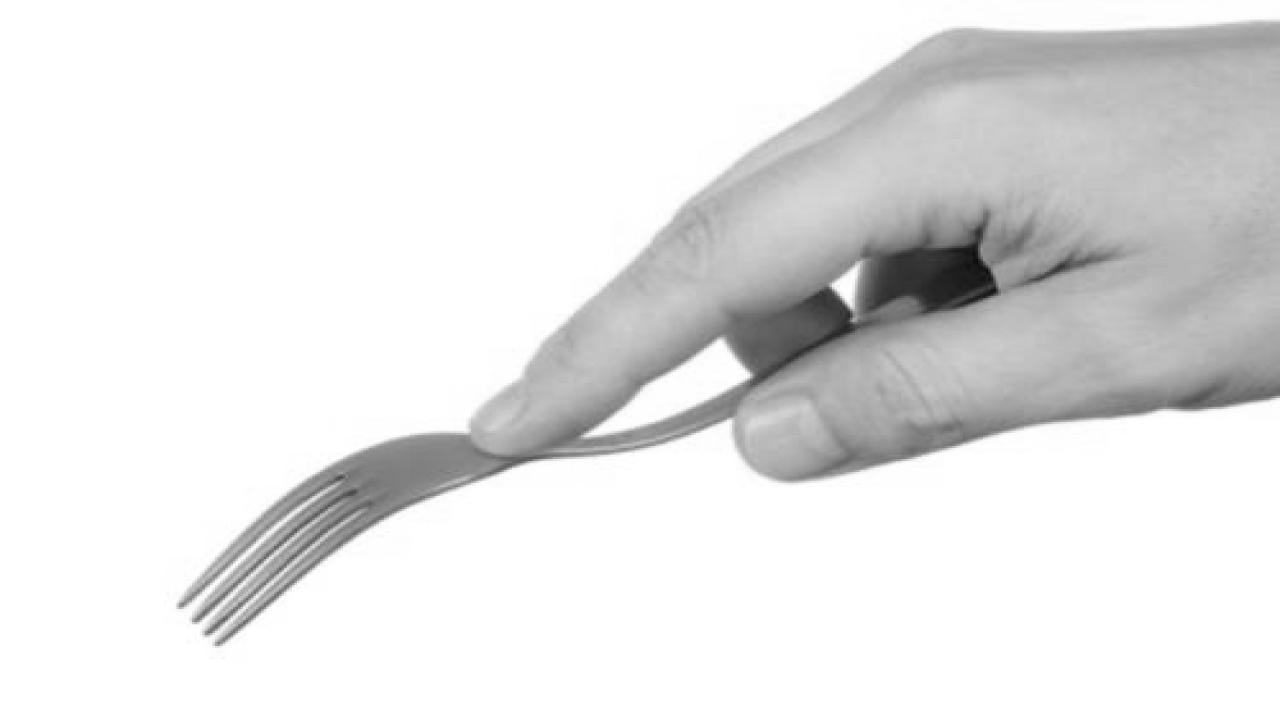fork: (174, 263, 998, 646)
hand: (461, 28, 1280, 481)
